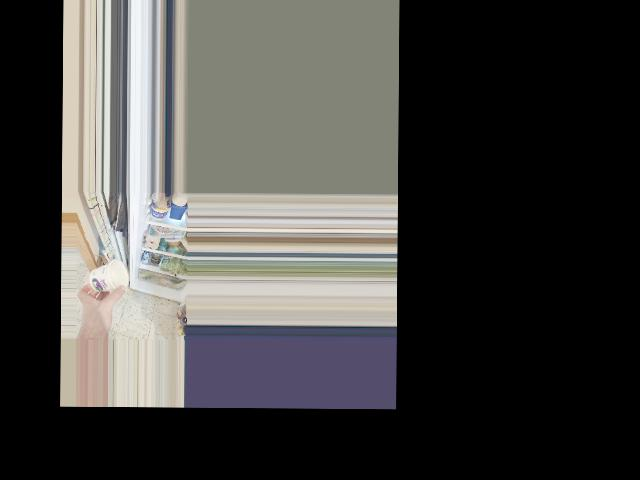cotage: (88, 256, 121, 295)
